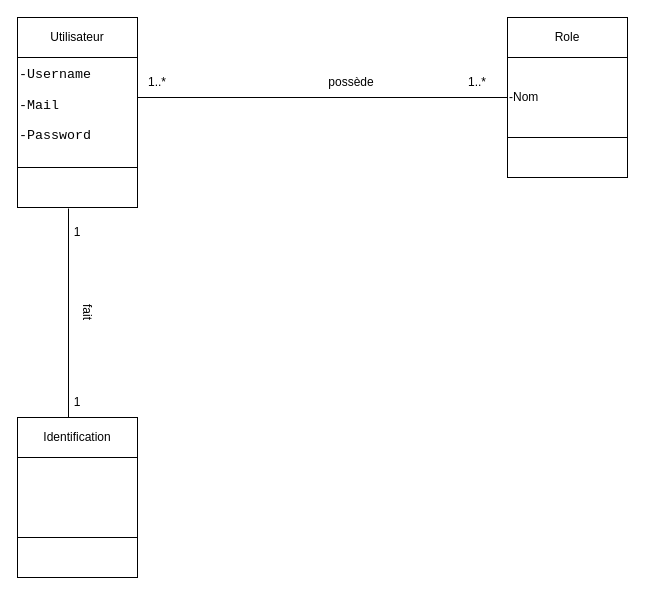
This 645x595 diagram has some shape labels left out. The centre of each missing label's shape, as x and y in pixels:
"+indentie() +creeRole()" belongs at (x=77, y=187).
"-Mail -Password" belongs at (x=77, y=497).
